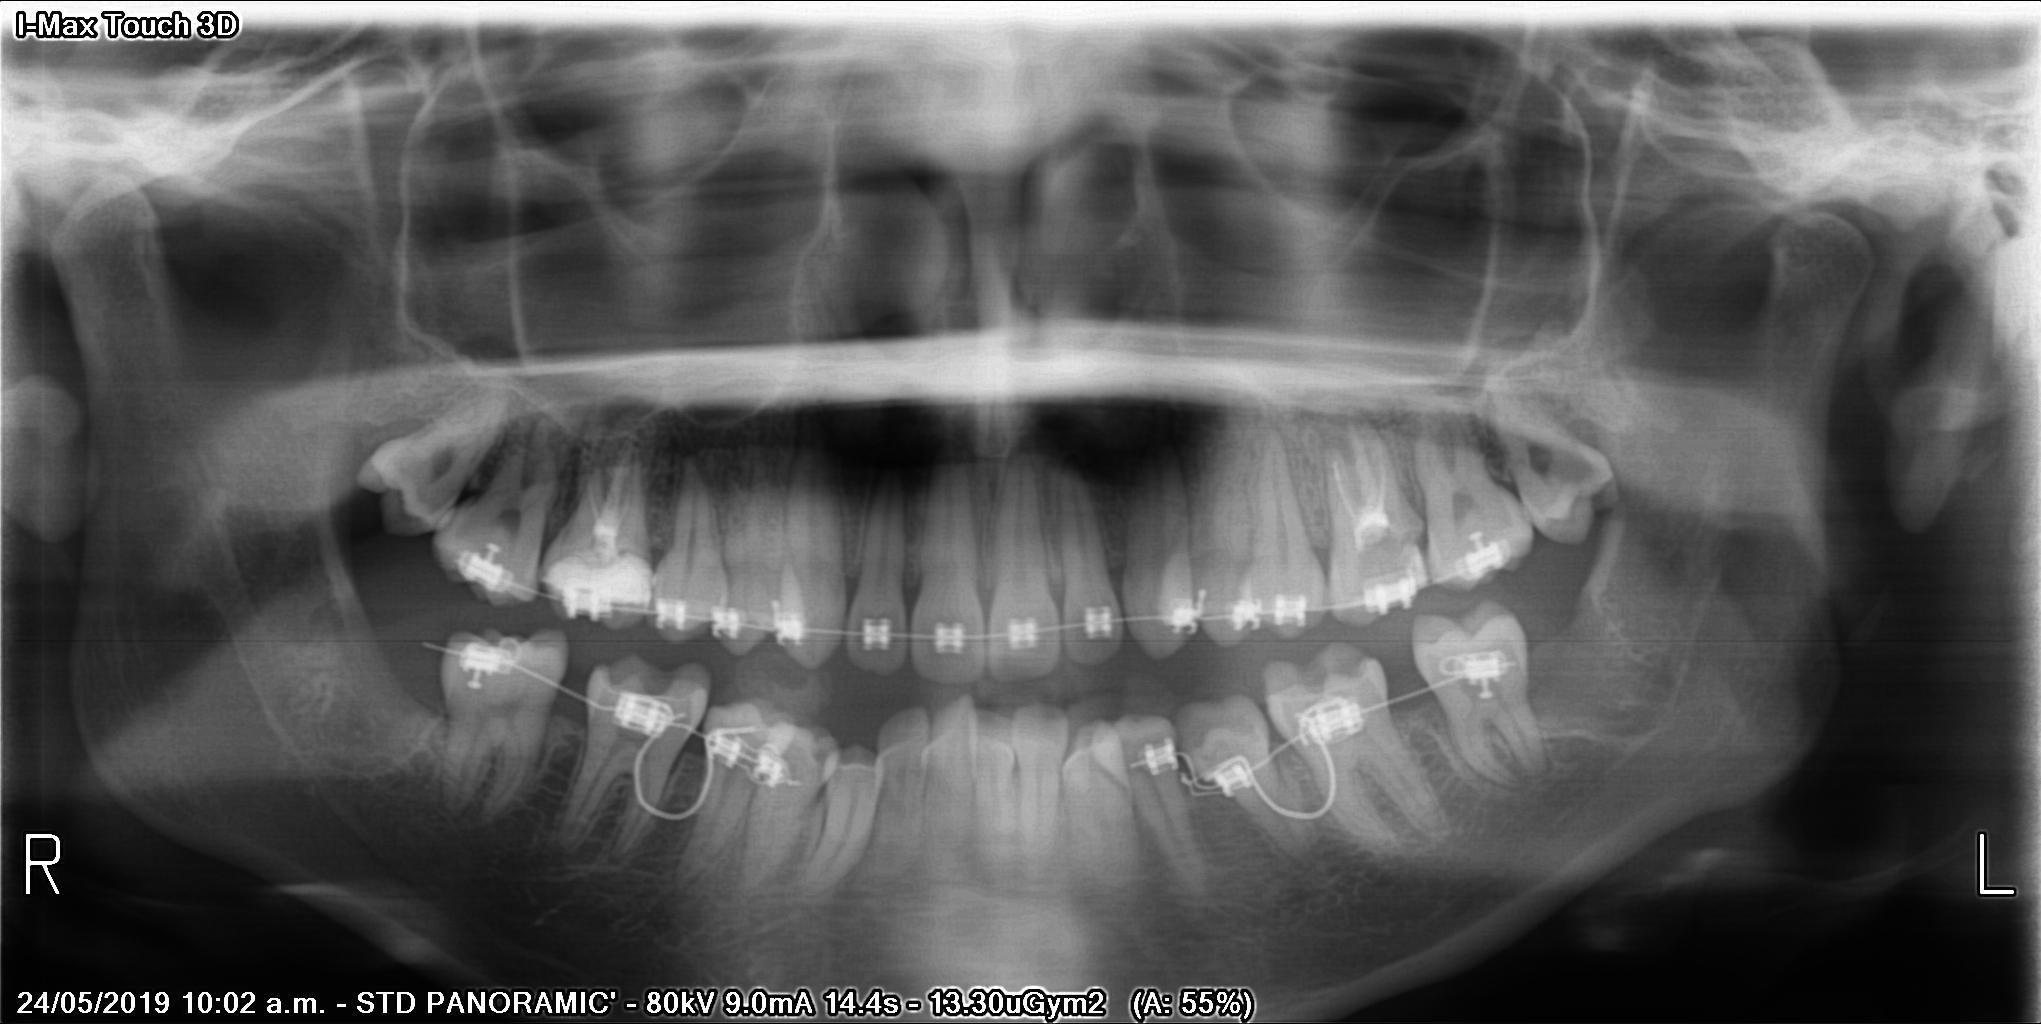Çürük: (551, 552, 654, 602), (1152, 545, 1186, 630), (781, 559, 811, 640)
Çürük Bölgesi: (1404, 512, 1427, 552), (812, 746, 832, 765)
